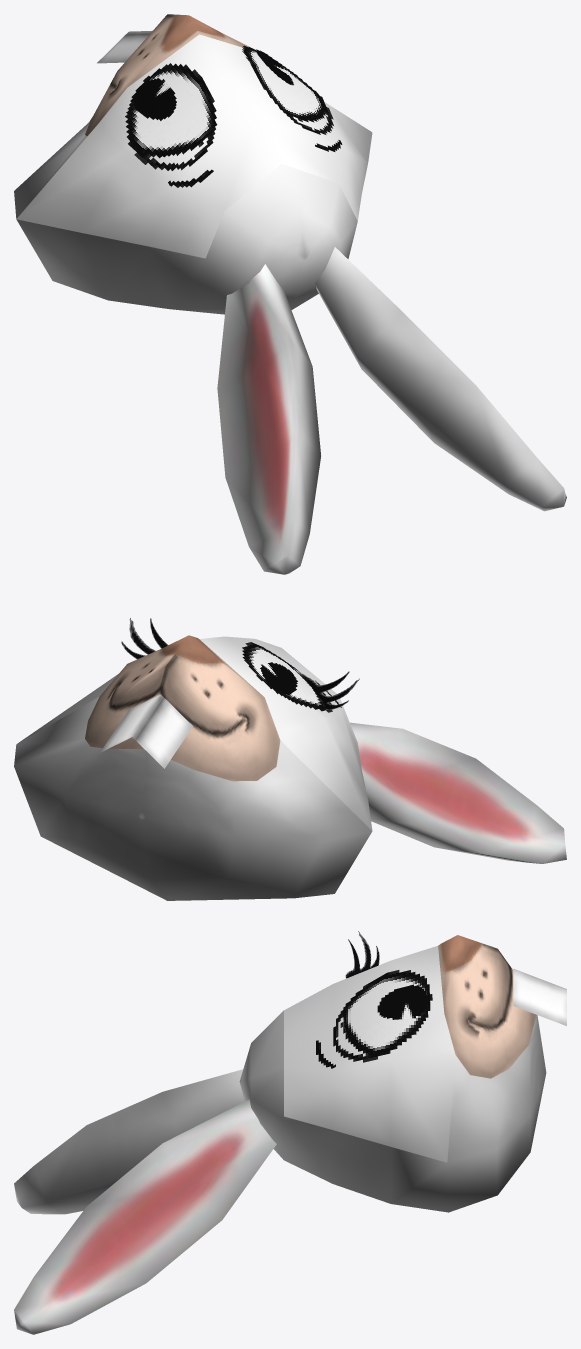
File: rls.glb
The picture shows the model from 3 angles, top to bottom: view 1: azimuth 30°, elevation 25°; view 2: azimuth 150°, elevation 25°; view 3: azimuth 270°, elevation 25°; orthographic projection. The views are drawn at different scales.
Parts seen in each view (by area): view 1: ears-short, head-front-long, head-long, eyes, muzzle-long-neutral, joint_pupilL_long, RabbitHead1000Polys; view 2: head-long, ears-short, muzzle-long-neutral, head-front-long, RabbitHead1000Polys, eyes, eyelashes, joint_pupilL_long; view 3: ears-short, head-long, head-front-long, muzzle-long-neutral, eyes, RabbitHead1000Polys, joint_pupilR_long, eyelashes.
Boxes of the visible parts, bbox=[...] form: ears-short: bbox=[217, 247, 566, 574]; head-front-long: bbox=[16, 34, 372, 258]; head-long: bbox=[14, 117, 357, 314]; eyes: bbox=[125, 45, 342, 187]; muzzle-long-neutral: bbox=[85, 14, 256, 136]; joint_pupilL_long: bbox=[132, 78, 176, 120]; RabbitHead1000Polys: bbox=[97, 30, 152, 63]; head-long: bbox=[14, 696, 372, 900]; ears-short: bbox=[350, 722, 566, 863]; muzzle-long-neutral: bbox=[85, 635, 280, 781]; head-front-long: bbox=[19, 636, 372, 830]; RabbitHead1000Polys: bbox=[100, 694, 192, 768]; eyes: bbox=[242, 642, 341, 712]; eyelashes: bbox=[121, 618, 359, 709]; joint_pupilL_long: bbox=[260, 662, 297, 695]; ears-short: bbox=[14, 1069, 276, 1334]; head-long: bbox=[239, 1010, 546, 1212]; head-front-long: bbox=[284, 946, 455, 1162]; muzzle-long-neutral: bbox=[438, 935, 536, 1078]; eyes: bbox=[316, 970, 432, 1068]; RabbitHead1000Polys: bbox=[513, 968, 566, 1025]; joint_pupilR_long: bbox=[377, 984, 428, 1019]; eyelashes: bbox=[343, 931, 379, 1039].
Bounding box in the file's own units: 1.37 × 1.33 × 1.97.
Materials: 7 (7 with a texture image).
